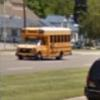buses: (16, 28, 72, 60)
